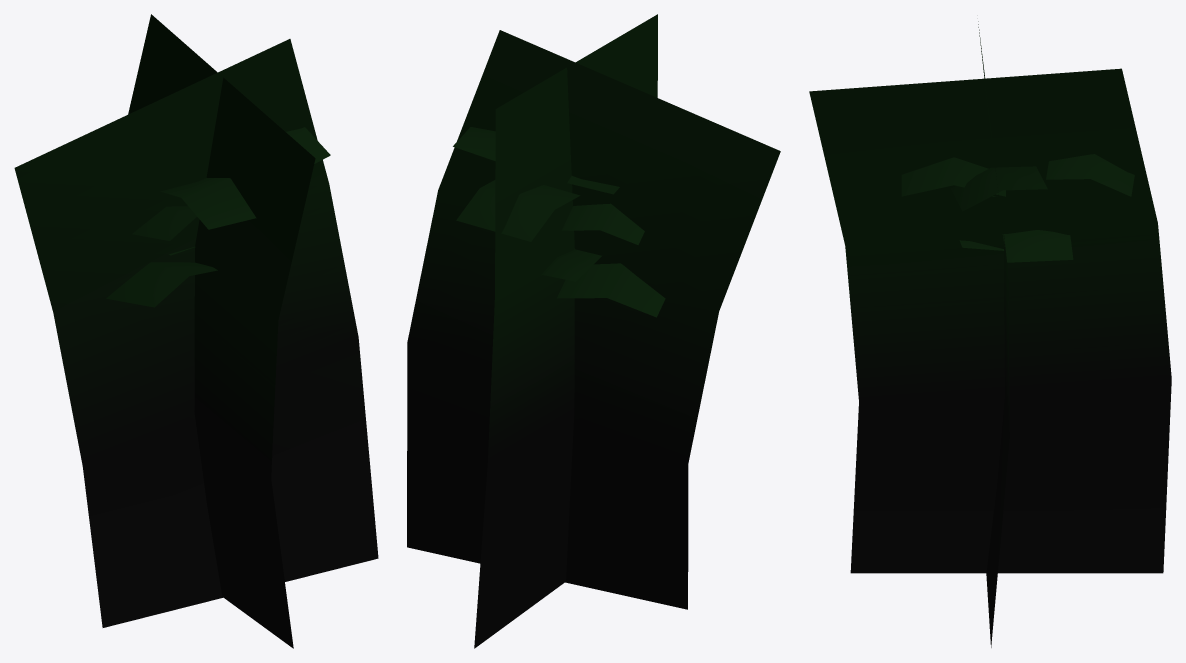
File: FlowersA.fbx
The picture shows the model from 3 angles, left to right: view 1: azimuth 30°, elevation 25°; view 2: azimuth 150°, elevation 25°; view 3: azimuth 270°, elevation 25°; orthographic projection. The views are drawn at different scales.
Visible parts, largest first — view 1: FlowersA; view 2: FlowersA; view 3: FlowersA.
Boxes of the visible parts, left/top/right/bottom form: FlowersA: left=14, top=14, right=378, bottom=648; FlowersA: left=407, top=14, right=780, bottom=648; FlowersA: left=809, top=21, right=1171, bottom=647.
Size of the model in its own units: 0.4763 by 0.6672 by 0.4236.
